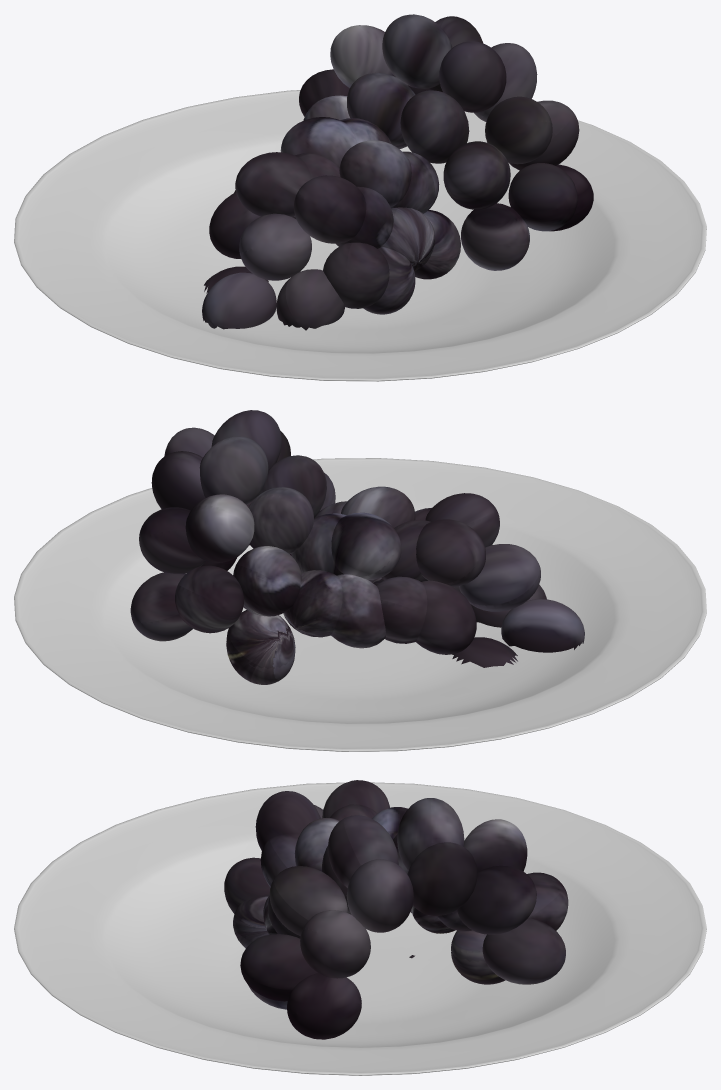
Rendered from druiven.fbx.
3 views of the same model, one above another, from view 1: azimuth 30°, elevation 25°; view 2: azimuth 150°, elevation 25°; view 3: azimuth 270°, elevation 25° (orthographic).
Parts seen in each view (by area): view 1: Group05; view 2: Group05; view 3: Group05.
Part boxes in pixels (x1,y1,x2,y2): Group05: [14, 14, 706, 381]; Group05: [14, 410, 706, 751]; Group05: [14, 780, 706, 1075].
Bounding box in the file's own units: 10.08 × 3.44 × 10.08.
